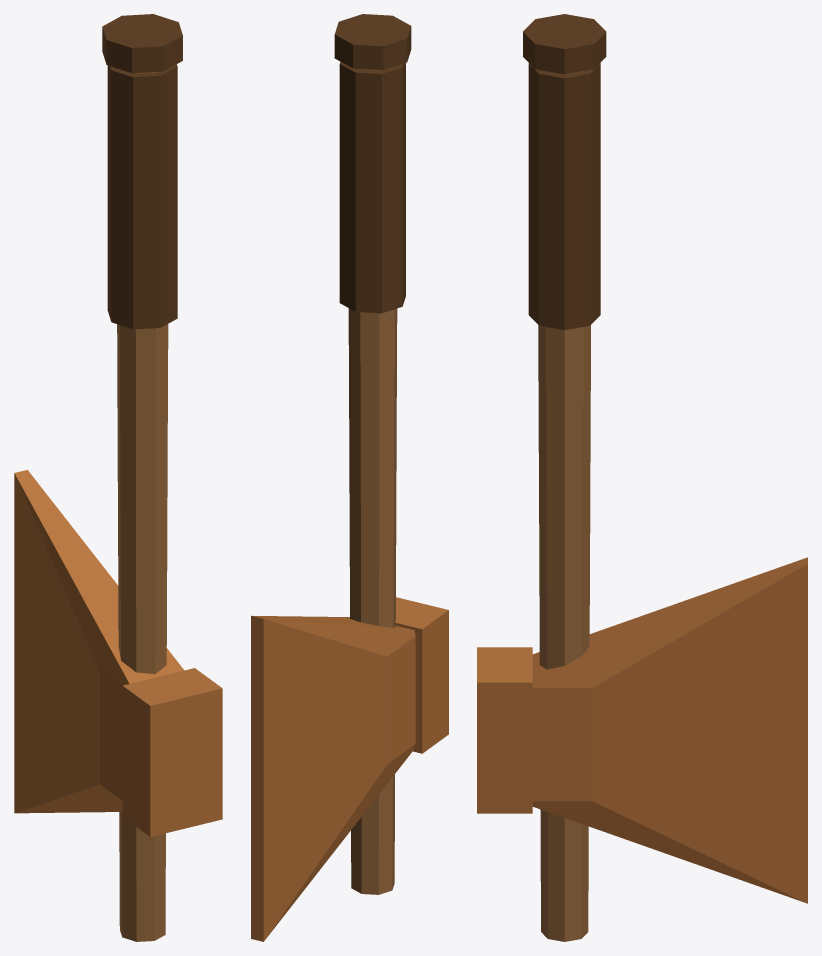
The model's file is held_axe.glb.
3 renders of one model, left to right at view 1: azimuth 30°, elevation 25°; view 2: azimuth 150°, elevation 25°; view 3: azimuth 270°, elevation 25°, orthographic. The views are drawn at different scales.
Visible parts, largest first — view 1: held_axe; view 2: held_axe; view 3: held_axe.
Boxes of the visible parts, left/top/right/bottom form: held_axe: left=14, top=14, right=222, bottom=941; held_axe: left=251, top=14, right=448, bottom=941; held_axe: left=477, top=14, right=807, bottom=941.
Size of the model in its own units: 0.06 by 0.715 by 0.238.
